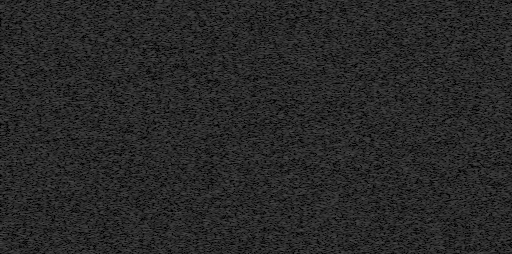wv_am: (257, 0, 262, 254), (482, 0, 487, 254)
wv_lsb: (484, 55, 489, 83), (484, 227, 489, 254), (484, 131, 489, 146), (485, 209, 488, 226), (484, 210, 489, 219), (484, 131, 489, 137), (485, 200, 488, 208), (485, 191, 488, 198), (485, 173, 488, 179), (485, 8, 488, 14), (485, 50, 489, 54), (485, 155, 488, 159), (485, 138, 488, 142), (485, 22, 488, 26), (485, 220, 488, 224), (485, 55, 488, 59), (485, 28, 488, 31)
wv_usb: (410, 3, 415, 206), (411, 223, 415, 245), (411, 208, 415, 222)
wv_wbfm: (391, 0, 403, 254), (377, 0, 386, 254)
